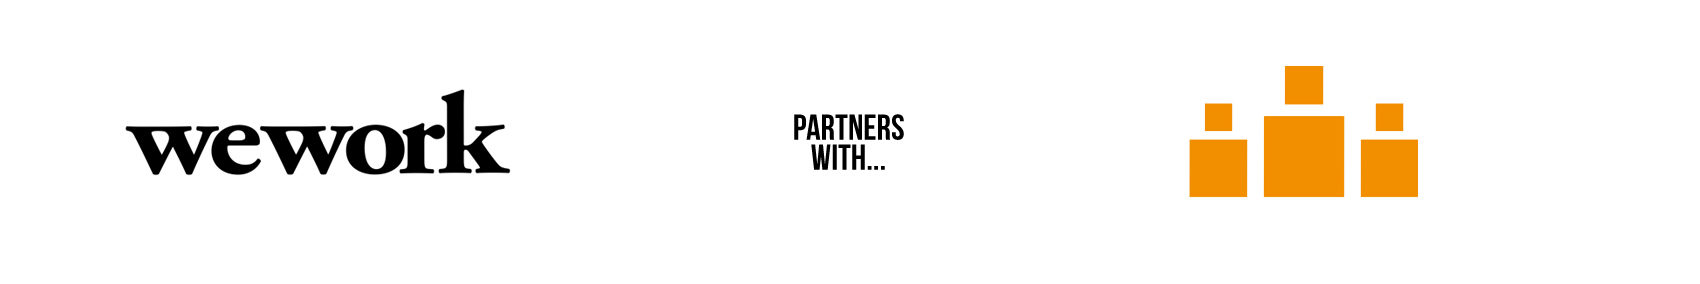wework: (120, 83, 516, 189)
